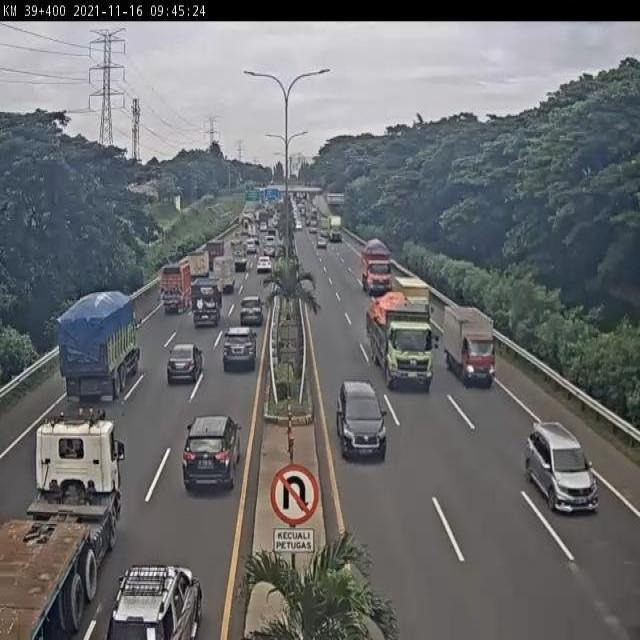Car: (523, 422, 600, 518), (105, 564, 202, 639), (182, 413, 242, 492), (336, 381, 388, 462), (221, 325, 258, 372), (167, 343, 204, 386), (240, 295, 264, 327), (256, 255, 272, 275), (246, 237, 258, 254), (259, 221, 268, 233)
Truck: (0, 406, 124, 640), (60, 290, 142, 401), (366, 292, 438, 390), (442, 306, 496, 385), (361, 238, 391, 292), (190, 278, 222, 326), (161, 262, 190, 314)
